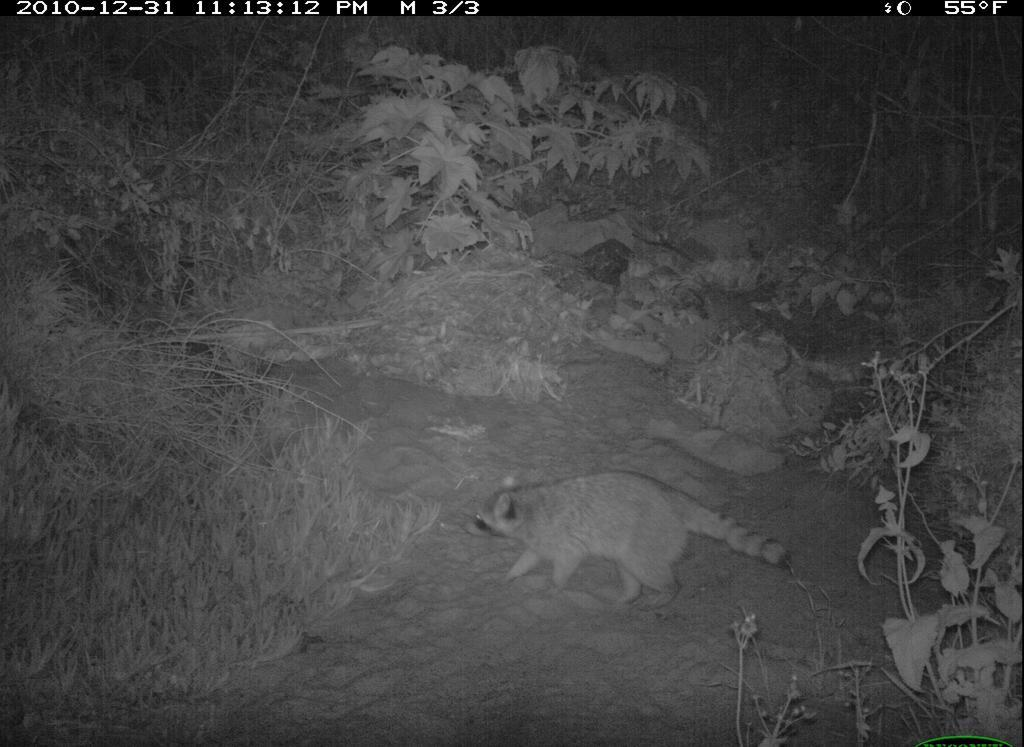raccoon: (468, 465, 803, 612)
